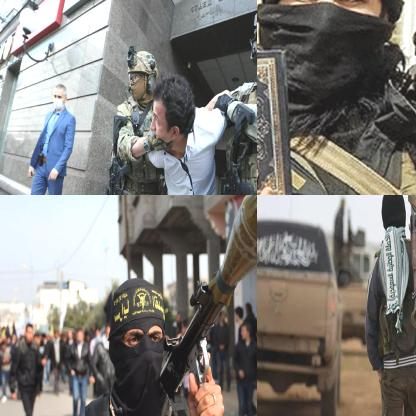rifle: (153, 195, 256, 409), (210, 102, 256, 194), (97, 112, 140, 194), (403, 195, 415, 330)
